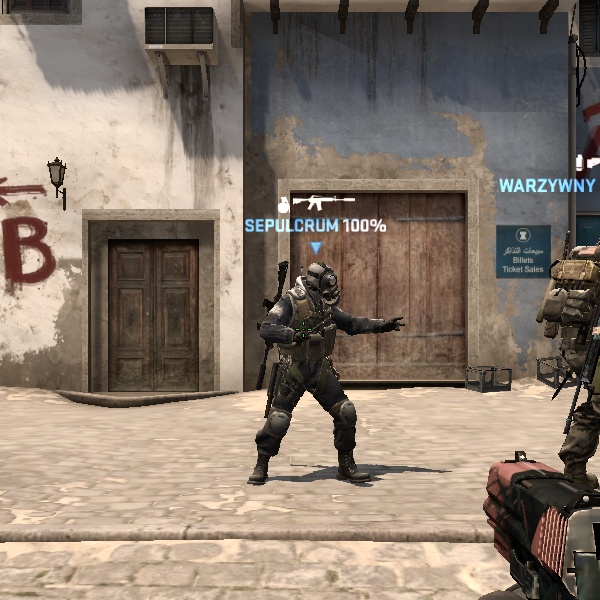ct_body: (250, 258, 373, 481)
ct_head: (294, 256, 349, 309)
